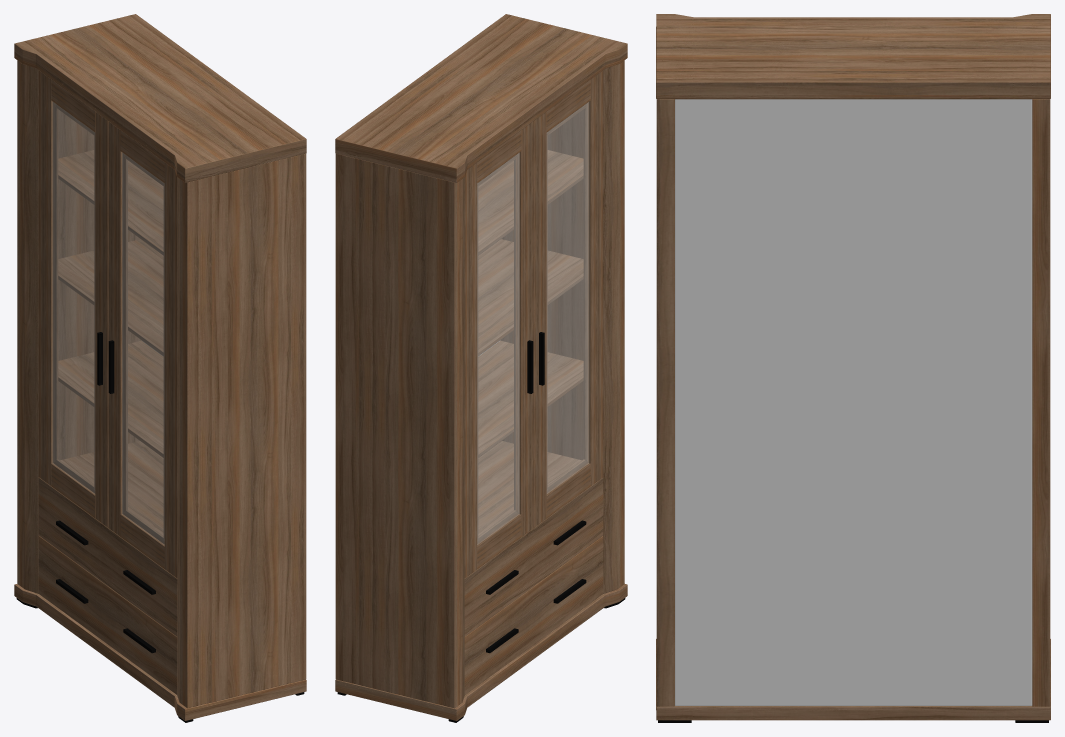
The model's file is GreyCabinet-transformed.glb.
The picture shows the model from 3 angles, left to right: view 1: azimuth 30°, elevation 25°; view 2: azimuth 150°, elevation 25°; view 3: azimuth 270°, elevation 25°; orthographic projection. The views are drawn at different scales.
Parts seen in each view (by area): view 1: Cabinet; view 2: Cabinet; view 3: Cabinet.
Part boxes in pixels (x1=…): Cabinet: x1=14, y1=14, x2=306, y2=722; Cabinet: x1=335, y1=14, x2=627, y2=722; Cabinet: x1=656, y1=14, x2=1050, y2=722.
Size of the model in its own units: 0.5735 by 2.5 by 1.39.
Materials: 6 (2 with a texture image).
